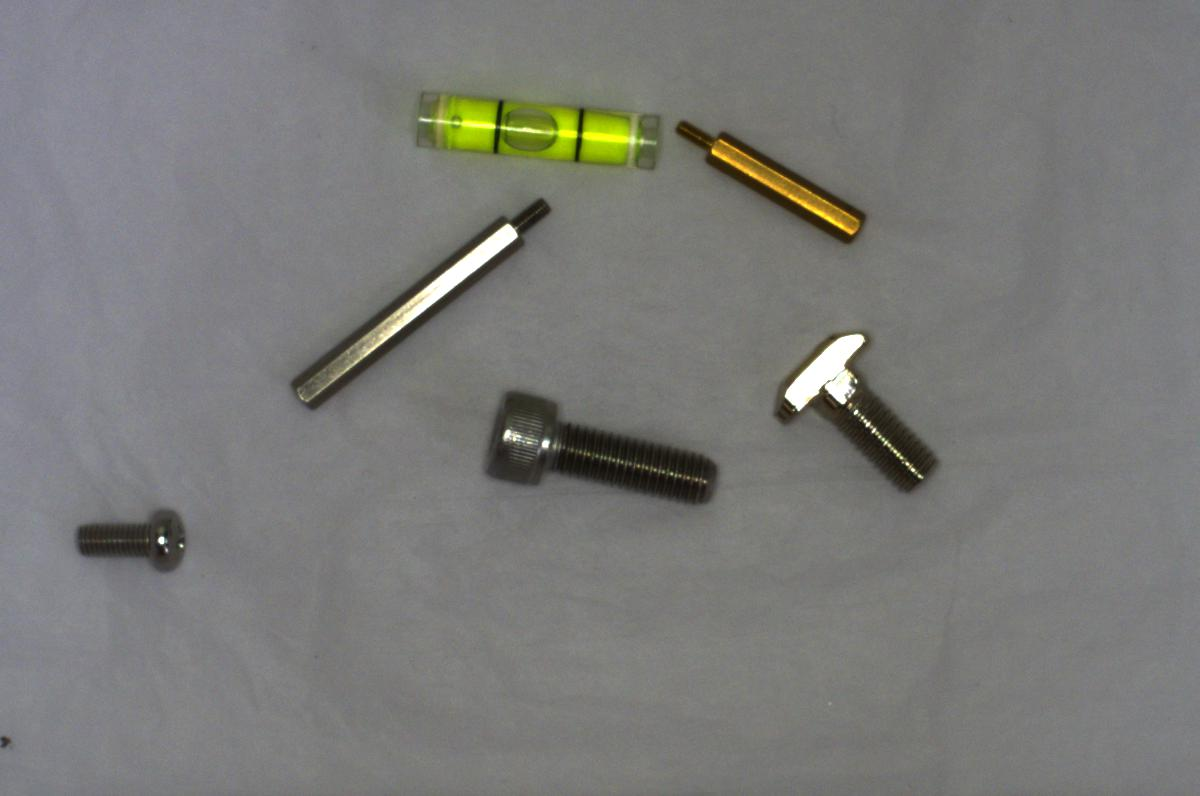Hexagon pillar: (672, 115, 871, 243)
Hexagon screw: (472, 381, 720, 512)
Hexagonal steel column: (292, 195, 553, 409)
Horizontal bubble: (408, 83, 670, 180)
Round head screw: (70, 500, 193, 585)
T-shaped screw: (774, 325, 940, 494)
